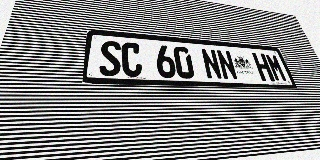0: (173, 46, 195, 79)
6: (155, 45, 177, 78)
C: (121, 42, 143, 77)
H: (252, 53, 275, 81)
M: (265, 54, 288, 82)
N: (200, 48, 223, 80), (216, 50, 239, 80)
S: (99, 40, 121, 76)
